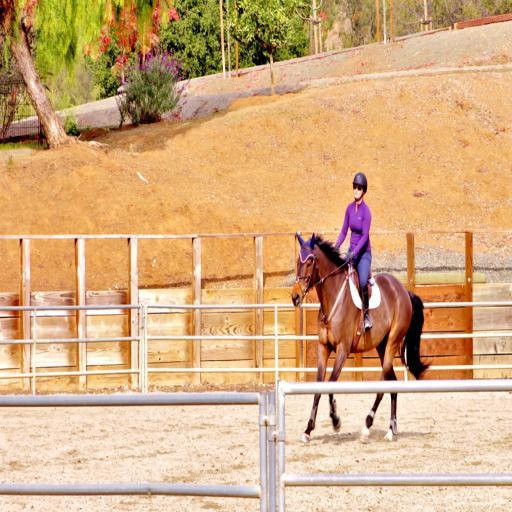Horse: (290, 234, 434, 446)
